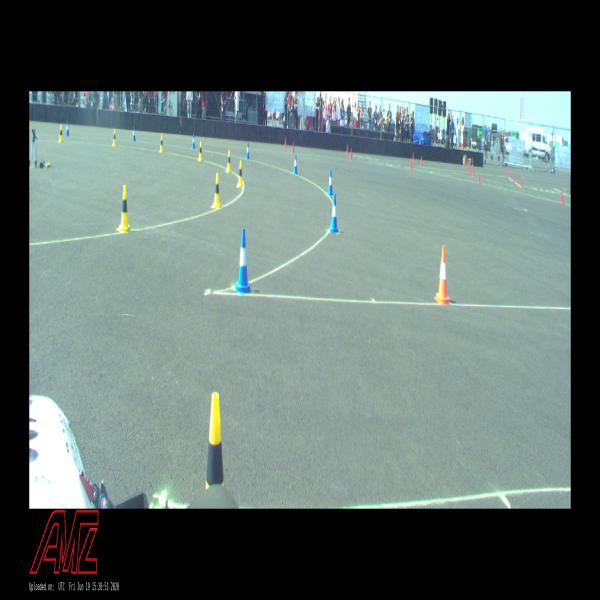blue_cone: (234, 229, 252, 294), (329, 195, 339, 234), (328, 170, 333, 196), (294, 154, 298, 174), (132, 126, 136, 142), (246, 143, 250, 159), (66, 121, 70, 136), (192, 133, 196, 147)
orange_cone: (434, 245, 451, 305)
unknown_cone: (560, 189, 564, 204), (410, 156, 413, 171), (477, 172, 480, 184), (412, 152, 415, 162), (292, 141, 294, 154), (471, 168, 474, 176), (420, 157, 422, 168), (350, 149, 352, 160), (513, 172, 515, 183), (346, 144, 348, 155), (506, 168, 508, 178), (520, 176, 522, 186), (468, 164, 470, 173), (466, 159, 468, 168), (285, 138, 286, 148)
yellow_cone: (198, 392, 232, 490), (118, 185, 131, 234), (211, 174, 222, 208), (236, 161, 244, 187), (226, 150, 232, 173), (197, 141, 202, 160), (159, 135, 164, 153), (112, 129, 116, 146), (59, 125, 63, 142)
